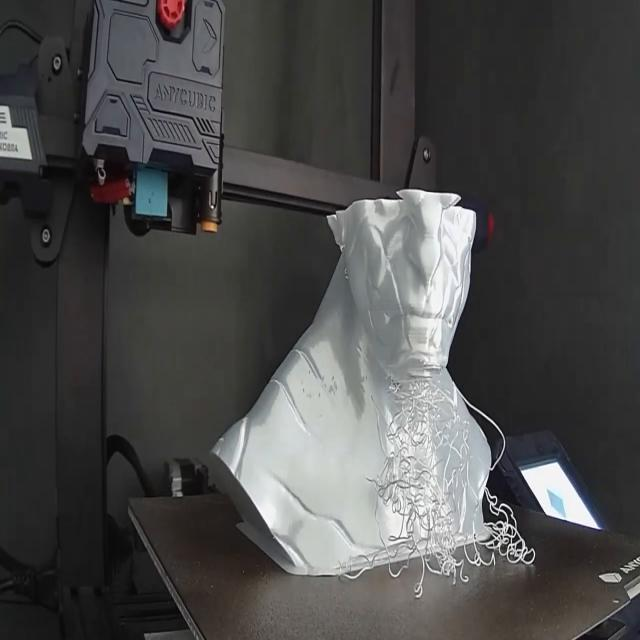spaghetti: (322, 367, 550, 584)
